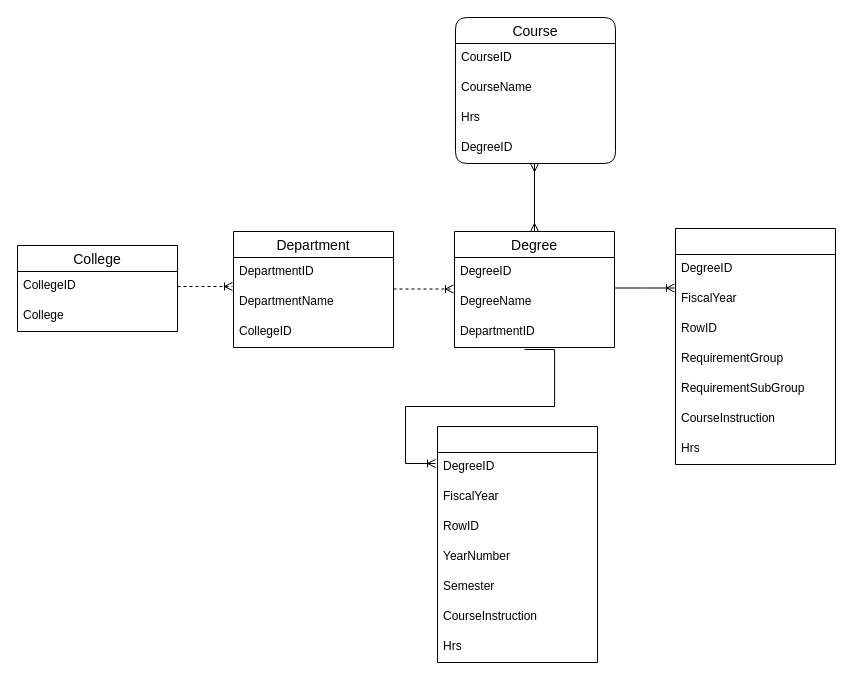
Some shapes in this 853 by 683 pixel diagram are drawn without their labels. Here are the shapes that lost their labels. From the top down, the box of each, then its label:
(674, 228, 836, 464): DegreeChecklist
(436, 426, 598, 662): CurriculumGuide
